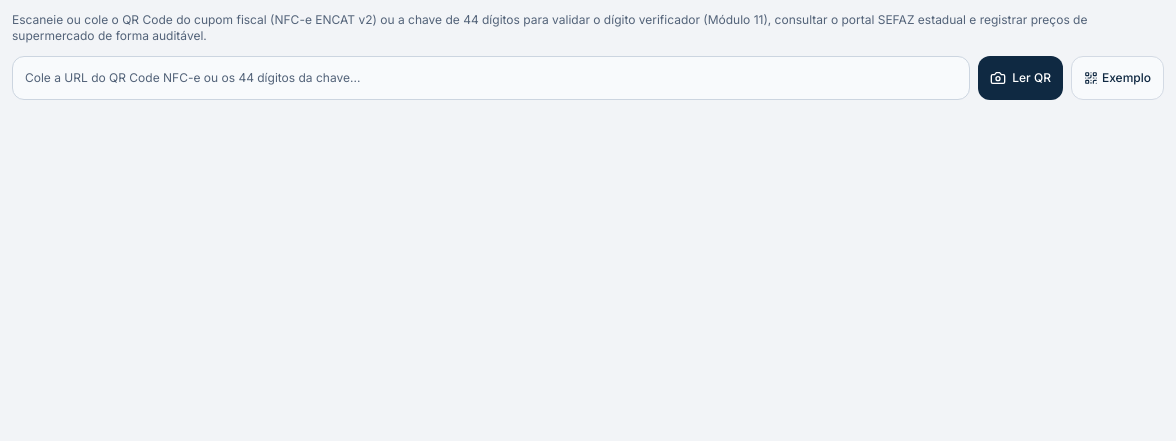
Scenario: CategoryTabs, CmedResultCard, NfceAuditPanel & ScopeKpiStrip variants › parses NFC-e sample QR Code in NfceAuditPanel and builds submission link
Later steps or results of the test are not shown.
Click the button "Ler QR": (1021, 78) [978,56,1063,100]
Click the button "Exemplo": (1117, 78) [1071,56,1164,100]
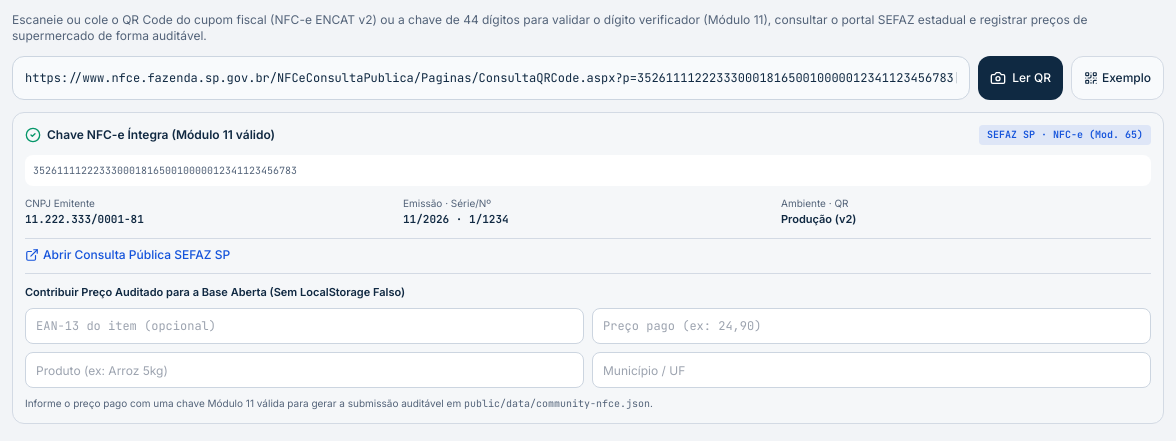
Check: the text "Chave NFC-e Íntegra (Módulo 11 válido)" is shown, box [47,127,275,143]
Check: the link "Abrir Consulta Pública SEFAZ SP" is shown, box [25,246,230,262]
